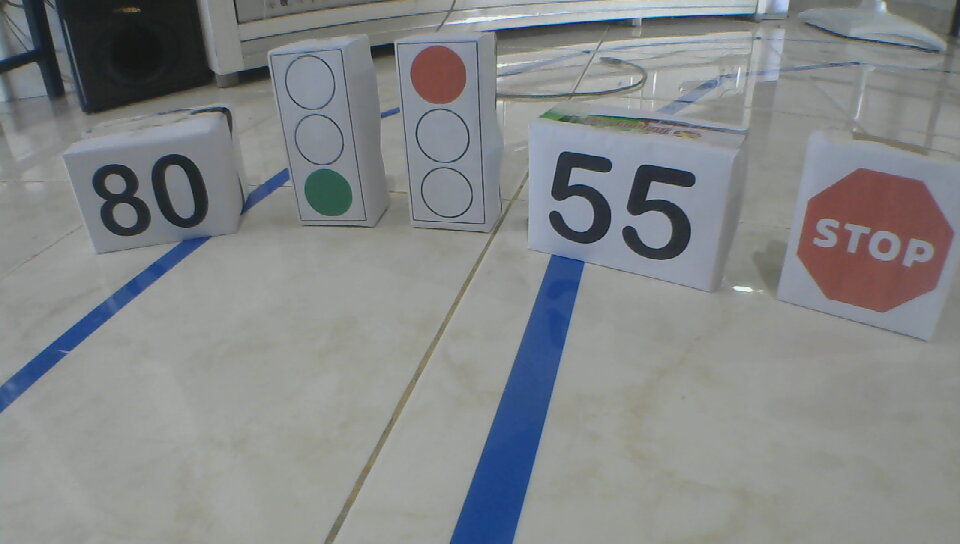Green Light: (282, 54, 356, 219)
Red Light: (407, 42, 474, 219)
Speed 55: (543, 148, 699, 262)
Speed 80: (92, 154, 209, 239)
Stop: (793, 168, 949, 318)
